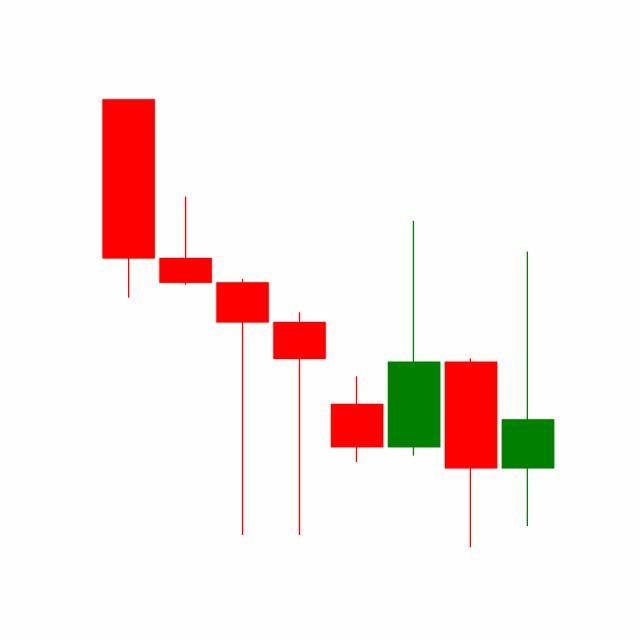Hikkake Pattern: (214, 217, 501, 549)
